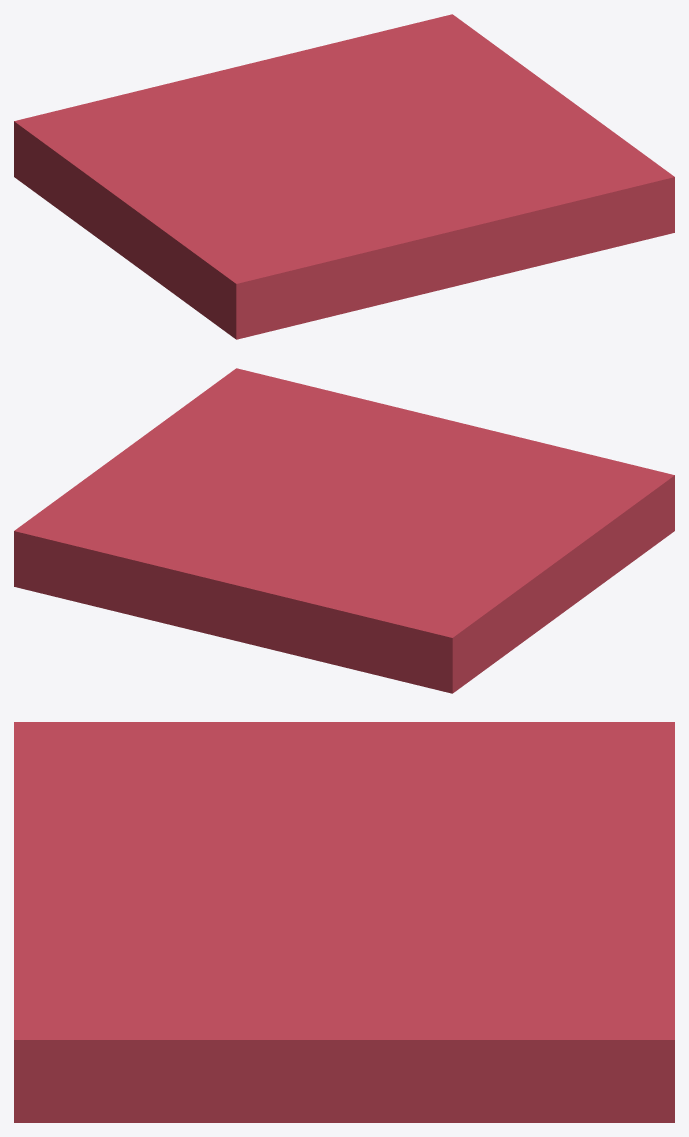
Rendered from Forest Fire Detector - CAD.glb.
3 renders of one model, top to bottom at view 1: azimuth 30°, elevation 25°; view 2: azimuth 150°, elevation 25°; view 3: azimuth 270°, elevation 25°, orthographic. The views are drawn at different scales.
Parts seen in each view (by area): view 1: Mesh_Mesh_head_geo.001_lambert2SG.001; view 2: Mesh_Mesh_head_geo.001_lambert2SG.001; view 3: Mesh_Mesh_head_geo.001_lambert2SG.001.
Boxes of the visible parts, x1,y1,x2,y2 form: Mesh_Mesh_head_geo.001_lambert2SG.001: [14, 14, 674, 339]; Mesh_Mesh_head_geo.001_lambert2SG.001: [14, 368, 674, 693]; Mesh_Mesh_head_geo.001_lambert2SG.001: [14, 722, 674, 1122].
Size of the model in its own units: 170 by 20.66 by 149.
